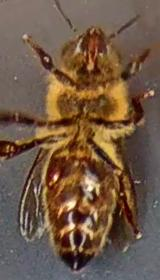varroa_mite: (45, 159, 65, 196)
